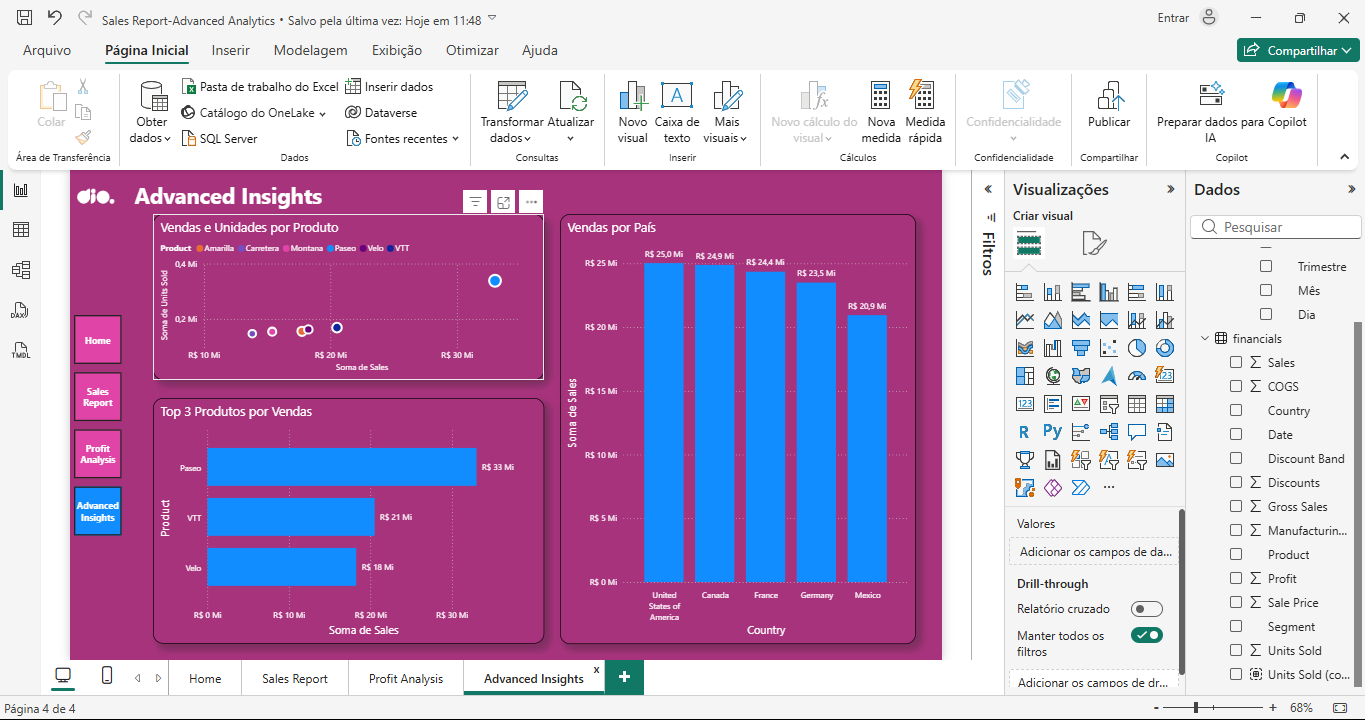

The page's visual inventory and layout, read from the dashboard file:
{"tool":"powerbi","page":{"name":"Advanced Insights","canvas":[1280,720],"ordinal":3},"visuals":[{"type":"pageNavigator","box":[5.9,213.1,70.5,327.7],"z":0},{"type":"textbox","box":[89.6,10.3,299.8,54.4],"z":1000},{"type":"image","box":[1.5,0,73.2,77.7],"z":2000},{"type":"scatterChart","title":"Vendas e Unidades por Produto","fields":{"Category":["financials.Product"],"X":["Sum(financials. Sales)"],"Y":["Sum(financials.Units Sold)"],"Size":["Sum(financials.Profit)"],"Series":["financials.Product"]},"box":[122,64.7,574.5,243.9],"z":3000},{"type":"columnChart","title":"Vendas por País","fields":{"Category":["financials.Country"],"Y":["Sum(financials. Sales)"]},"box":[720,64.7,523.1,631.8],"z":4000},{"type":"clusteredBarChart","title":"Top 3 Produtos por Vendas","fields":{"Category":["financials.Product"],"Y":["Sum(financials. Sales)"]},"box":[122,335,574.5,361.5],"z":5000}]}

Visuals, with their boxes on the page's 1280x720 design canvas (x1, y1, x2, y2). These are canvas units, not pixel positions in the 1365x720 screenshot, which may show the page scaled, cropped or inside an application window:
pageNavigator: pyautogui.locateOnScreen(6, 213, 76, 541)
textbox: pyautogui.locateOnScreen(90, 10, 389, 65)
image: pyautogui.locateOnScreen(2, 0, 75, 78)
"Vendas e Unidades por Produto" scatterChart: pyautogui.locateOnScreen(122, 65, 696, 309)
"Vendas por País" columnChart: pyautogui.locateOnScreen(720, 65, 1243, 696)
"Top 3 Produtos por Vendas" clusteredBarChart: pyautogui.locateOnScreen(122, 335, 696, 696)
